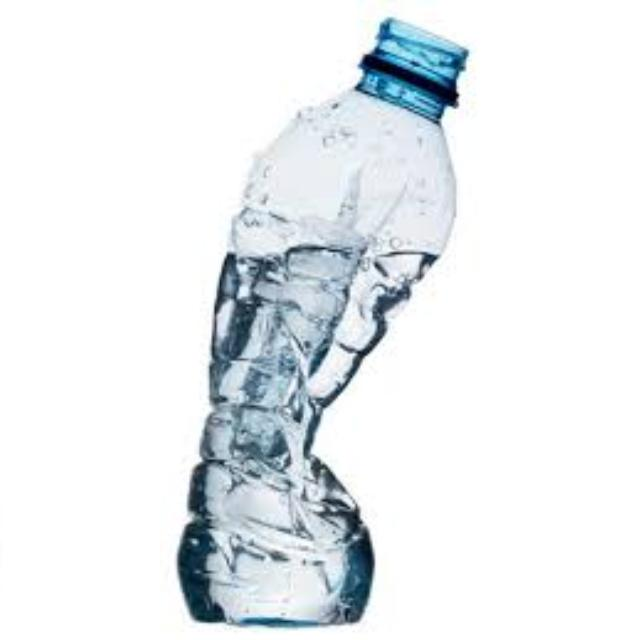Plastic: (138, 6, 496, 632), (0, 6, 21, 631), (623, 6, 640, 631)
